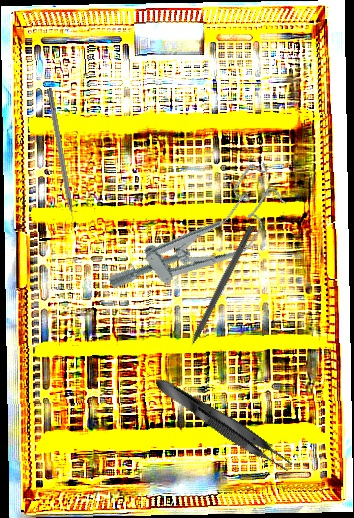Hook Surgical: (179, 224, 256, 361), (45, 87, 77, 232)
Speculum: (99, 157, 300, 324)
Tissue Forceps: (150, 371, 297, 477)
